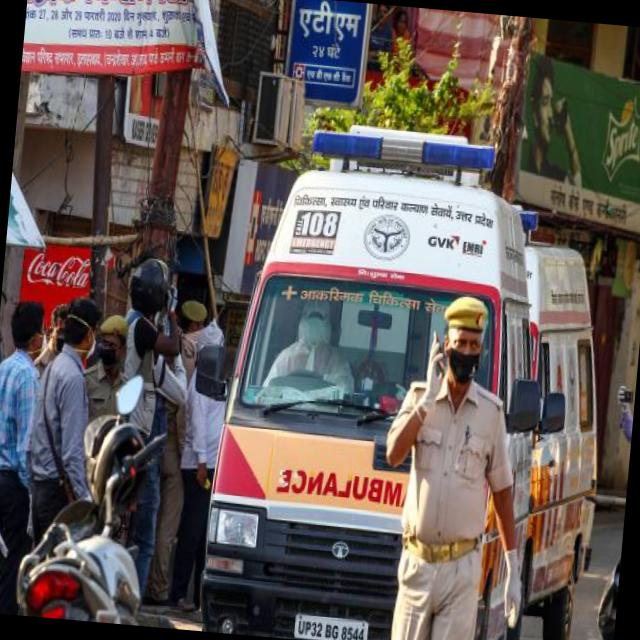ambulance: (306, 112, 506, 210), (284, 206, 504, 292), (506, 272, 604, 403), (268, 452, 409, 534), (518, 429, 594, 564), (506, 198, 544, 264)
